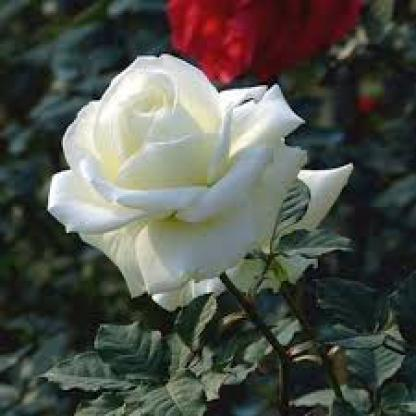Rose-Mawar: (38, 51, 365, 308)
